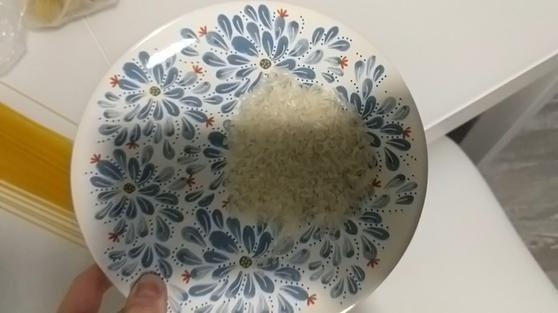rice: (213, 56, 392, 250)
